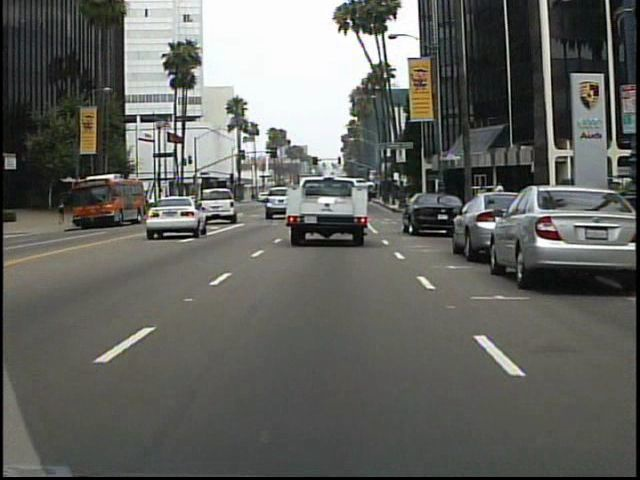person: (491, 179, 509, 220), (57, 193, 71, 225)
